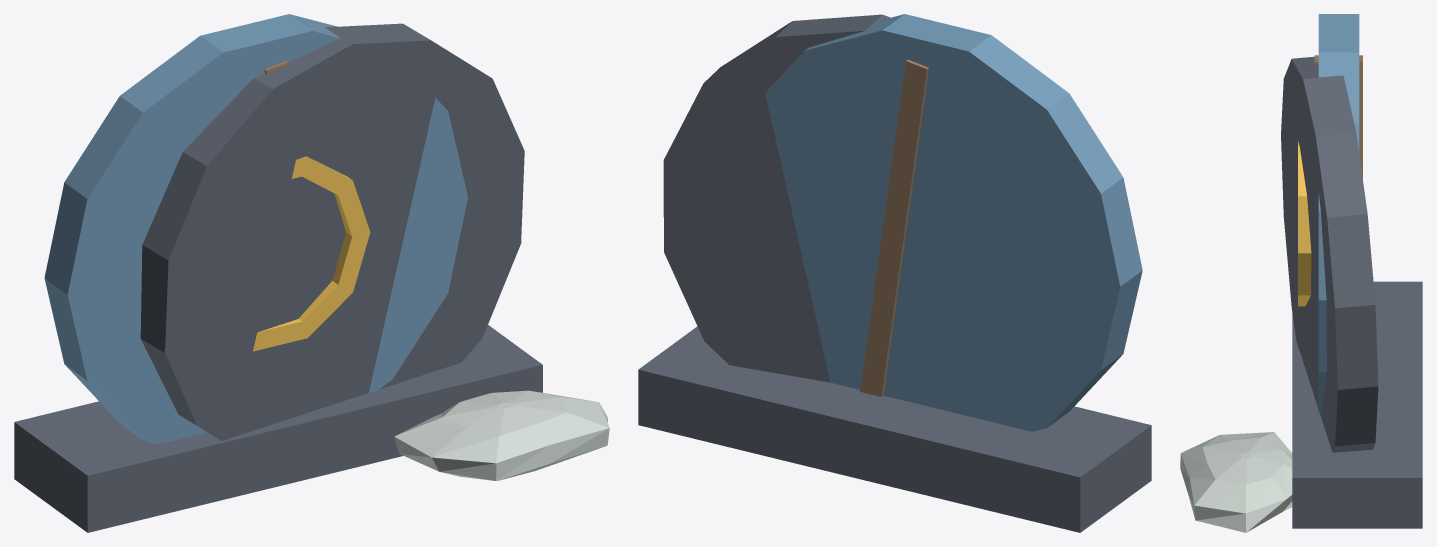
File: cracked_pressure_door.glb
3 renders of one model, left to right at view 1: azimuth 30°, elevation 25°; view 2: azimuth 150°, elevation 25°; view 3: azimuth 270°, elevation 25°, orthographic. The views are drawn at different scales.
Parts seen in each view (by area): view 1: DL010_CrackedPressureDoor_metal_dark, DL010_CrackedPressureDoor_faded_blue, DL010_CrackedPressureDoor_mineral, DL010_CrackedPressureDoor_amber_accent; view 2: DL010_CrackedPressureDoor_faded_blue, DL010_CrackedPressureDoor_metal_dark, DL010_CrackedPressureDoor_corrosion; view 3: DL010_CrackedPressureDoor_metal_dark, DL010_CrackedPressureDoor_mineral, DL010_CrackedPressureDoor_faded_blue, DL010_CrackedPressureDoor_amber_accent, DL010_CrackedPressureDoor_corrosion.
Boxes of the visible parts, left/top/right/bottom form: DL010_CrackedPressureDoor_metal_dark: left=14, top=23, right=542, bottom=532; DL010_CrackedPressureDoor_faded_blue: left=44, top=14, right=467, bottom=444; DL010_CrackedPressureDoor_mineral: left=394, top=390, right=609, bottom=480; DL010_CrackedPressureDoor_amber_accent: left=253, top=156, right=370, bottom=351; DL010_CrackedPressureDoor_faded_blue: left=765, top=14, right=1142, bottom=431; DL010_CrackedPressureDoor_metal_dark: left=638, top=14, right=1151, bottom=532; DL010_CrackedPressureDoor_corrosion: left=860, top=59, right=928, bottom=396; DL010_CrackedPressureDoor_metal_dark: left=1281, top=56, right=1422, bottom=528; DL010_CrackedPressureDoor_mineral: left=1180, top=432, right=1292, bottom=532; DL010_CrackedPressureDoor_faded_blue: left=1318, top=14, right=1359, bottom=412; DL010_CrackedPressureDoor_amber_accent: left=1298, top=141, right=1311, bottom=306; DL010_CrackedPressureDoor_corrosion: left=1314, top=55, right=1362, bottom=178.
Size of the model in its own units: 2.74 by 2.3 by 1.3.
